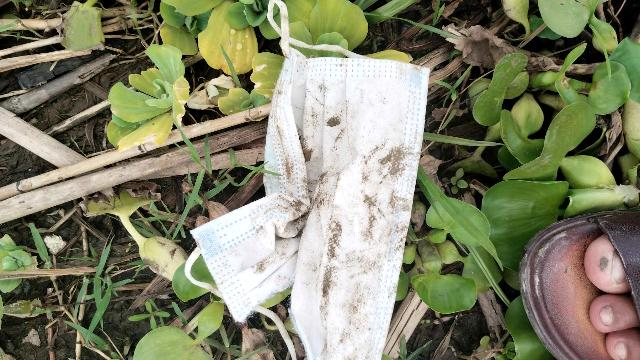mask: (181, 0, 438, 360)
